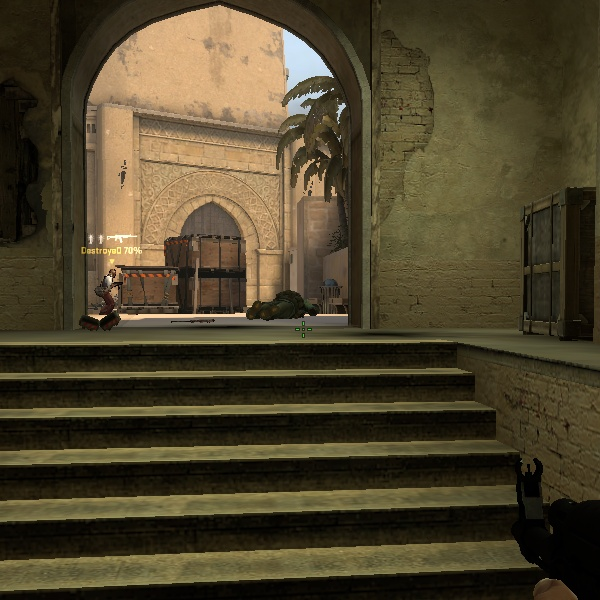t_body: (89, 263, 136, 321)
t_head: (104, 265, 121, 282)
